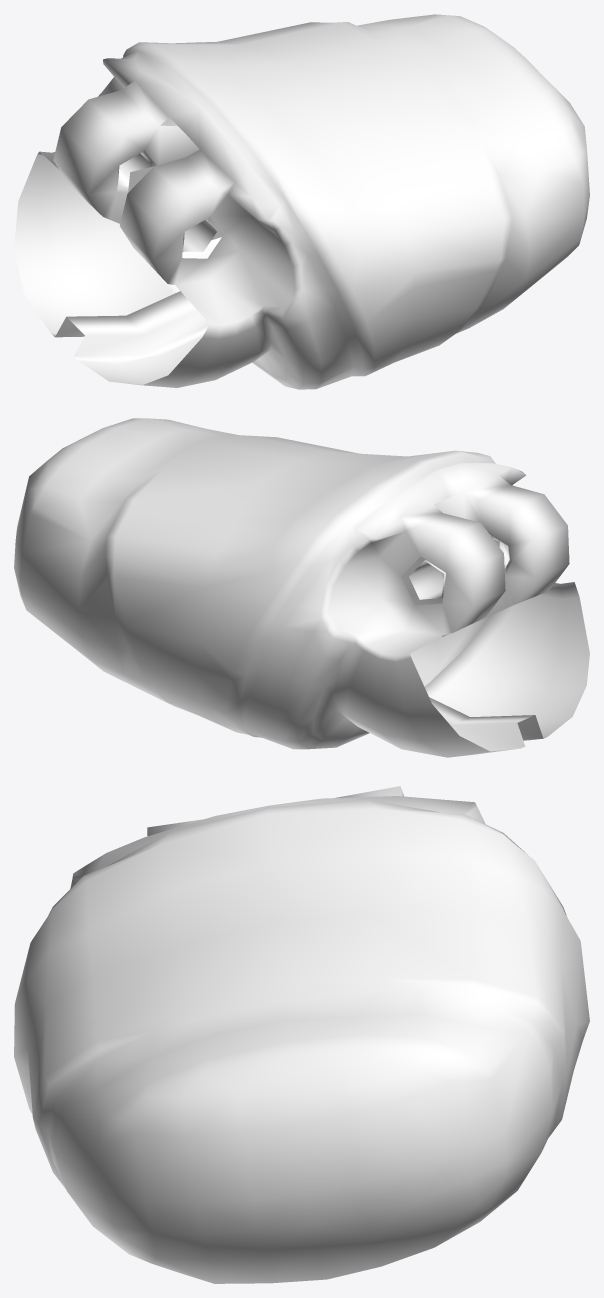
File: RFinger23.dae
The picture shows the model from 3 angles, top to bottom: view 1: azimuth 30°, elevation 25°; view 2: azimuth 150°, elevation 25°; view 3: azimuth 270°, elevation 25°; orthographic projection. The views are drawn at different scales.
Visible parts, largest first — view 1: RFinger23; view 2: RFinger23; view 3: RFinger23.
Boxes of the visible parts, x1,y1,x2,y2 form: RFinger23: (14, 14, 589, 389); RFinger23: (14, 418, 589, 757); RFinger23: (14, 786, 589, 1283).
Bounding box in the file's own units: 0.204 × 0.1614 × 0.1121.
1 material, 1 textured.
